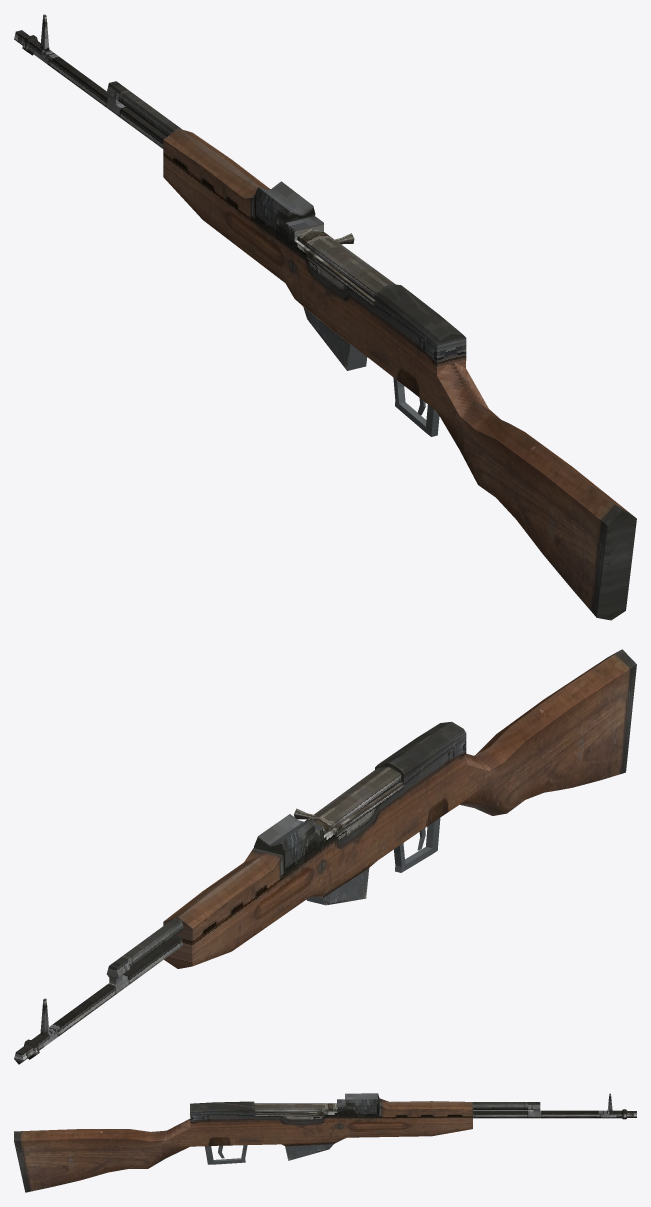
The model's file is sks.glb.
3 renders of one model, top to bottom at view 1: azimuth 30°, elevation 25°; view 2: azimuth 150°, elevation 25°; view 3: azimuth 270°, elevation 25°, orthographic. The views are drawn at different scales.
Parts seen in each view (by area): view 1: gun, barrel, charger; view 2: gun, barrel, charger; view 3: gun, barrel, charger.
Boxes of the visible parts, x1,y1,x2,y2 form: gun: [163, 128, 636, 620]; barrel: [14, 14, 181, 148]; charger: [297, 228, 395, 299]; gun: [163, 649, 636, 968]; barrel: [14, 918, 183, 1064]; charger: [294, 766, 401, 834]; gun: [14, 1093, 472, 1192]; barrel: [472, 1093, 636, 1119]; charger: [254, 1103, 336, 1116].
Bounding box in the file's own units: 0.1583 × 0.6835 × 3.92.
1 material, 1 textured.
